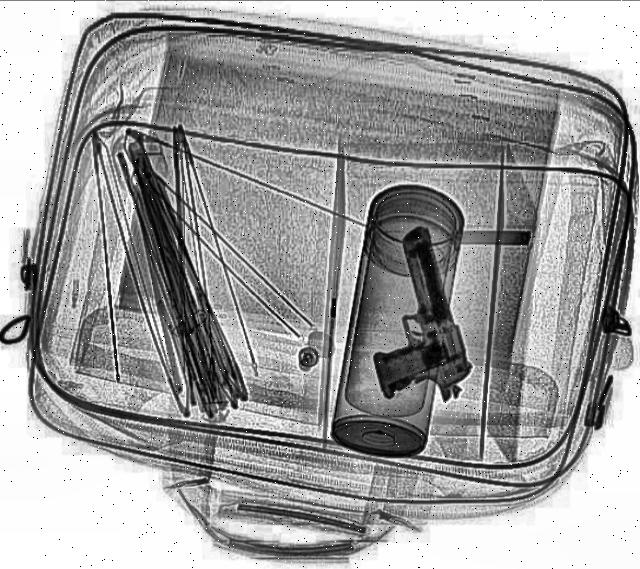Gun: (336, 224, 482, 410)
